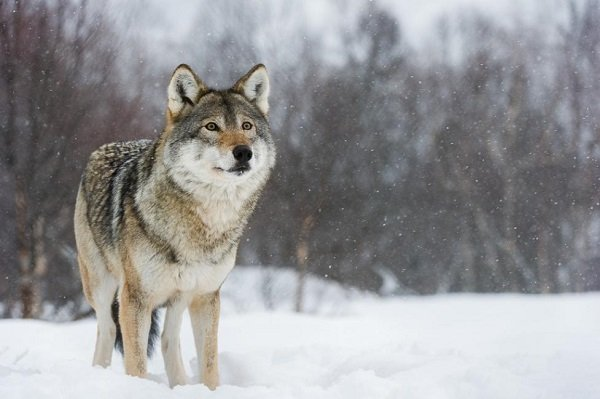Lobo: (41, 56, 283, 382)
